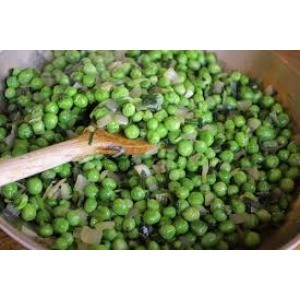green pea_brain food: (75, 87, 260, 225)
